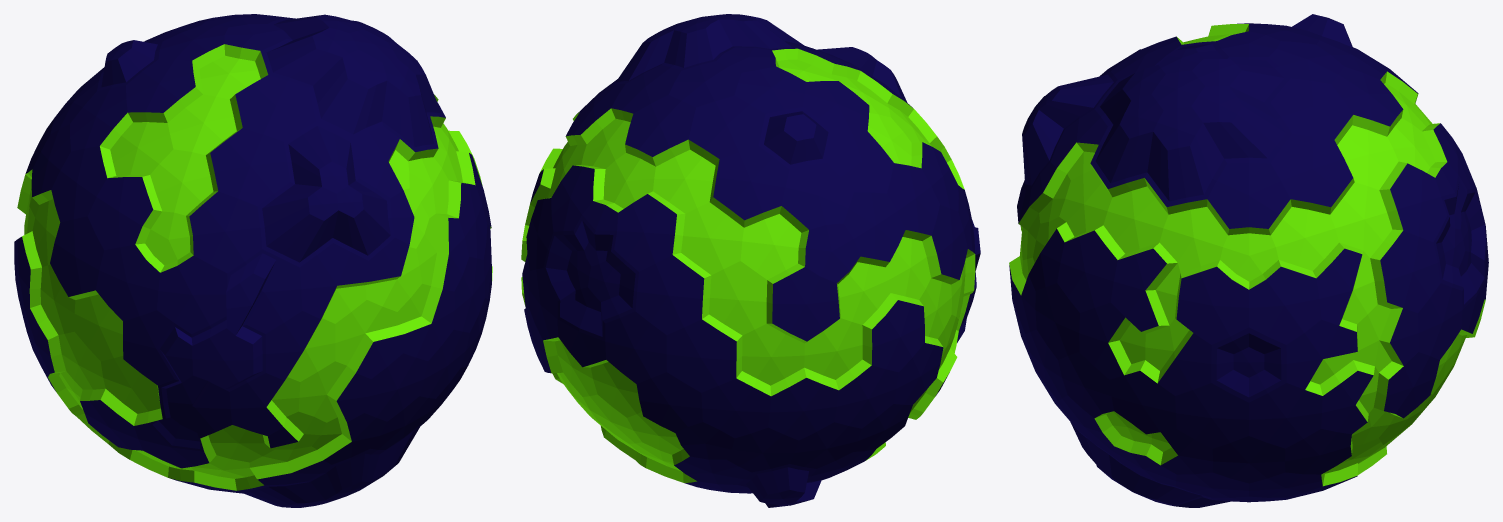
Rendered from Planet5Evo4.glb.
3 renders of one model, left to right at view 1: azimuth 30°, elevation 25°; view 2: azimuth 150°, elevation 25°; view 3: azimuth 270°, elevation 25°, orthographic. The views are drawn at different scales.
Visible parts, largest first — view 1: Icosphere.033; view 2: Icosphere.033; view 3: Icosphere.033.
Boxes of the visible parts, x1,y1,x2,y2 form: Icosphere.033: [14, 14, 492, 507]; Icosphere.033: [521, 14, 980, 507]; Icosphere.033: [1009, 14, 1488, 507].
Bounding box in the file's own units: 1.8 × 1.9 × 1.81.
